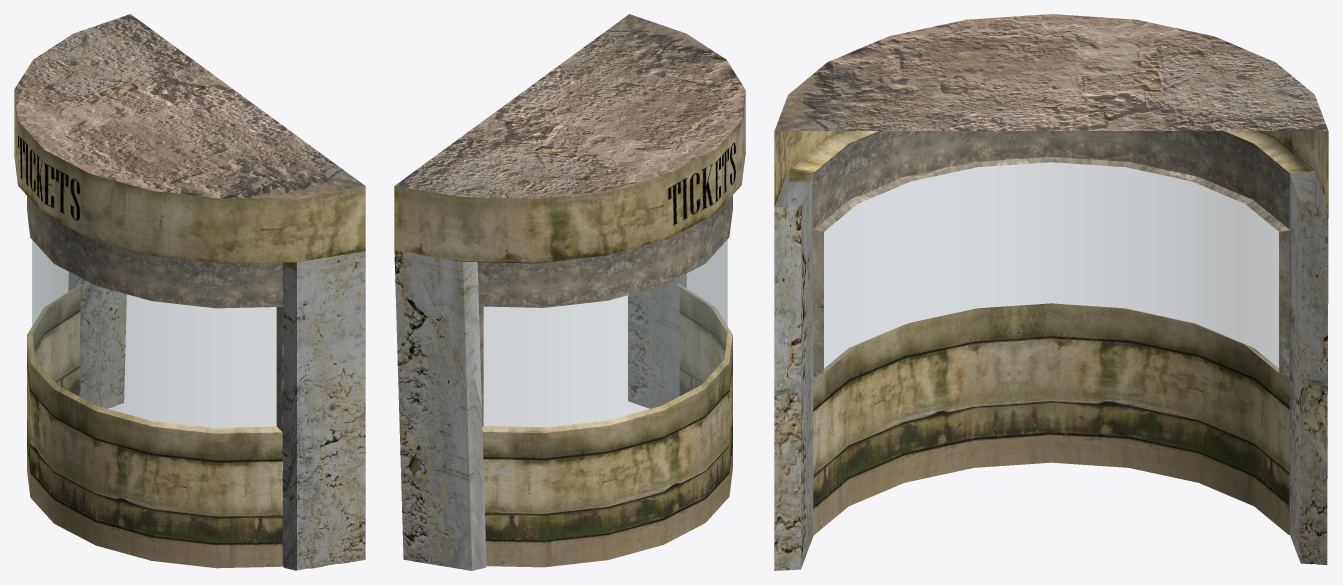
Rendered from Ticketbooth.fbx.
3 renders of one model, left to right at view 1: azimuth 30°, elevation 25°; view 2: azimuth 150°, elevation 25°; view 3: azimuth 270°, elevation 25°, orthographic. The views are drawn at different scales.
Parts seen in each view (by area): view 1: Ticket_boot; view 2: Ticket_boot; view 3: Ticket_boot.
Part boxes in pixels (<box>): Ticket_boot: <box>14,14,365,570</box>; Ticket_boot: <box>394,14,745,570</box>; Ticket_boot: <box>774,14,1328,570</box>.
Size of the model in its own units: 2.19 by 3.87 by 4.38.
